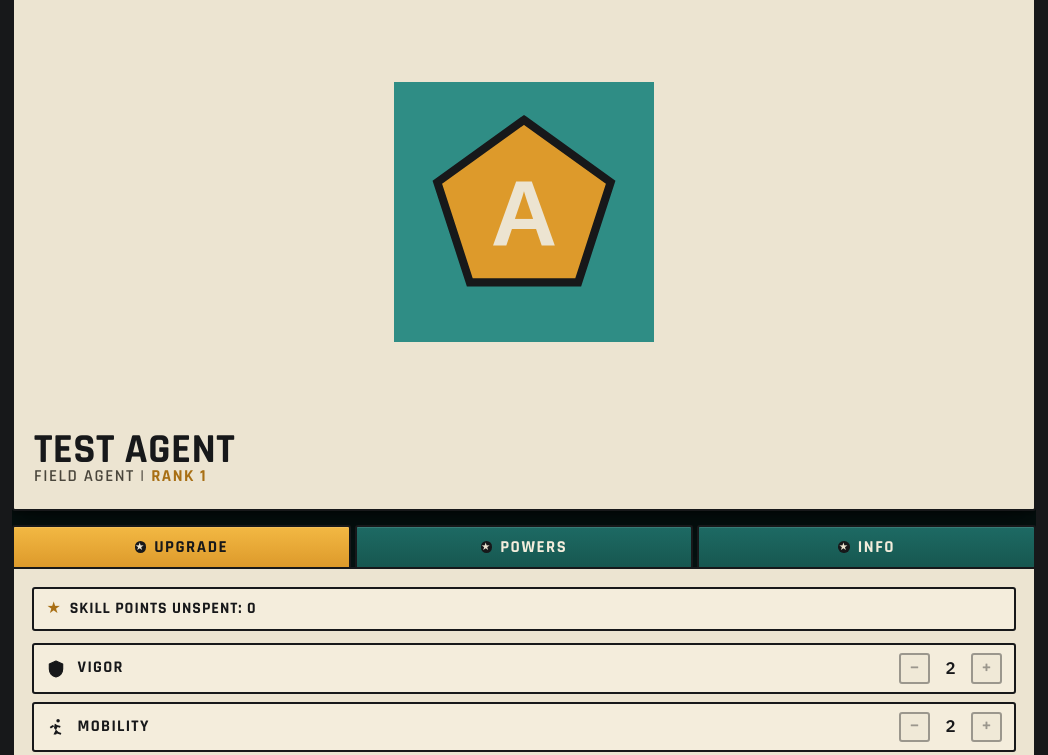
Scenario: CharacterSheet - powers and info tabs › shows the fixed-rank note on the info tab
What coordinates should you click on to do the following:
click the button "★ Info"
I would click on:
 (867, 546)
Its box is [697,525,1036,567].
(page scrolled)
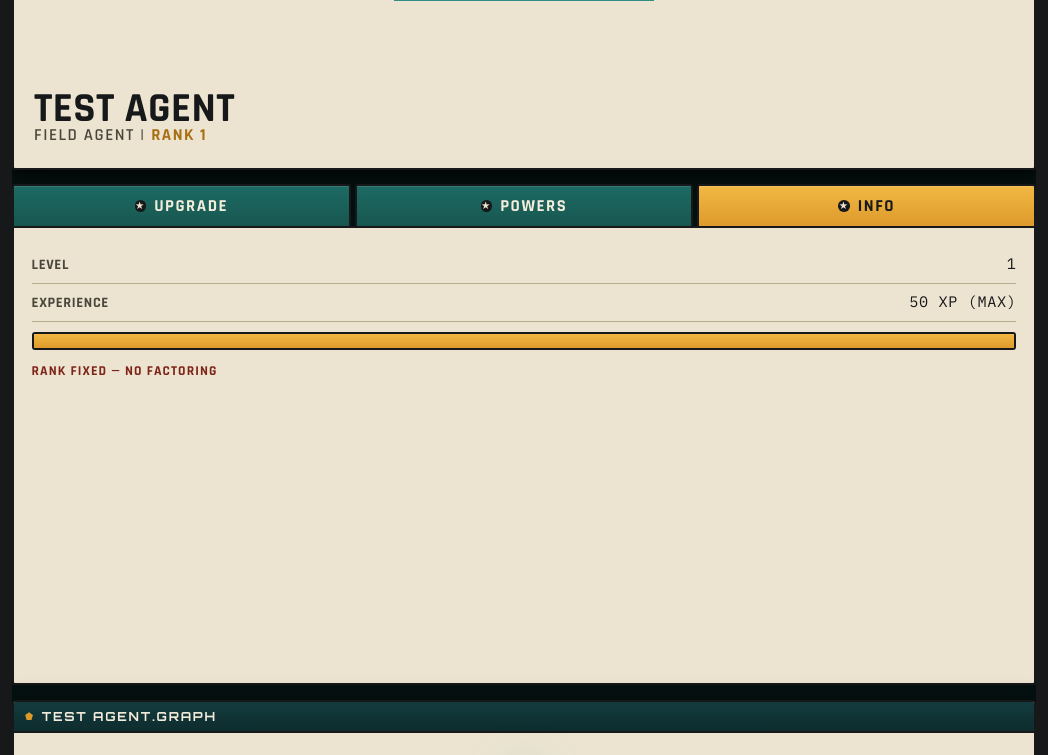
Result: the text "RANK FIXED — NO FACTORING" is shown at [32,362,217,380]
